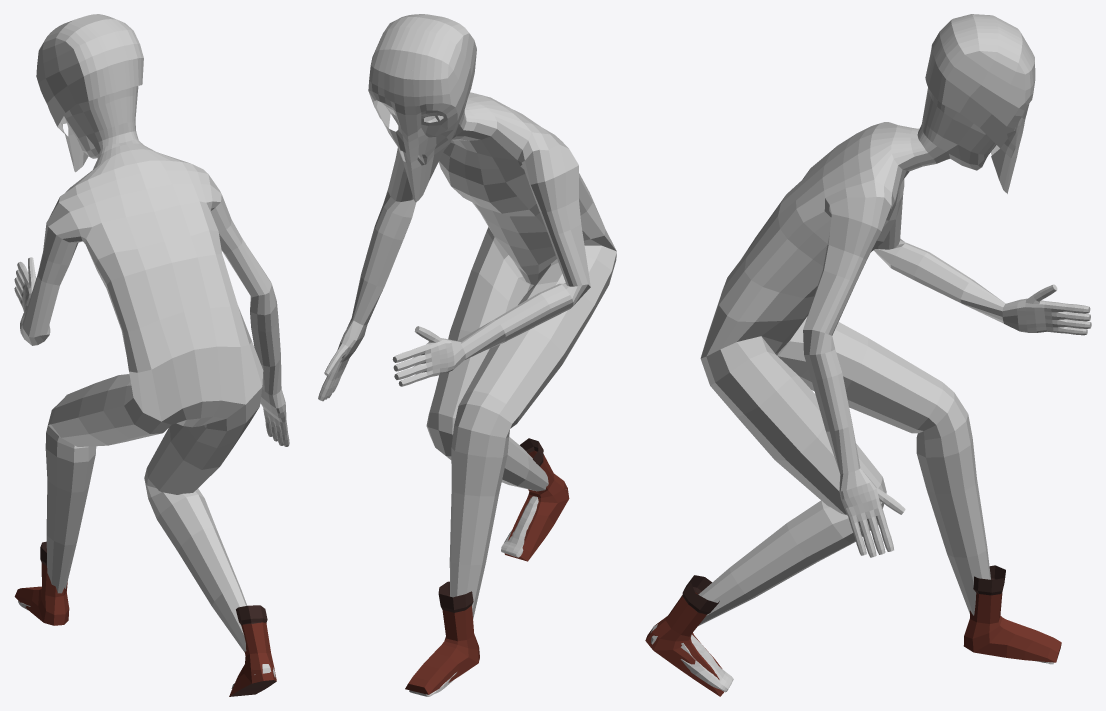
Rendered from saltoadelante_000141.obj.
The picture shows the model from 3 angles, left to right: view 1: azimuth 30°, elevation 25°; view 2: azimuth 150°, elevation 25°; view 3: azimuth 270°, elevation 25°; orthographic projection. The views are drawn at different scales.
Parts seen in each view (by area): view 1: Plane.002_Plane.001, Plane.003, Plane.004; view 2: Plane.002_Plane.001, Plane.004, Plane.003; view 3: Plane.002_Plane.001, Plane.004, Plane.003.
Part boxes in pixels (x1=…): Plane.002_Plane.001: x1=14, y1=14, x2=289, y2=688; Plane.003: x1=229, y1=605, x2=276, y2=696; Plane.004: x1=14, y1=541, x2=69, y2=625; Plane.002_Plane.001: x1=318, y1=14, x2=616, y2=696; Plane.004: x1=405, y1=581, x2=479, y2=694; Plane.003: x1=504, y1=438, x2=569, y2=561; Plane.002_Plane.001: x1=650, y1=14, x2=1091, y2=692; Plane.004: x1=963, y1=565, x2=1061, y2=662; Plane.003: x1=645, y1=575, x2=723, y2=696.
Bounding box in the file's own units: 2.48 × 5.57 × 3.45.
